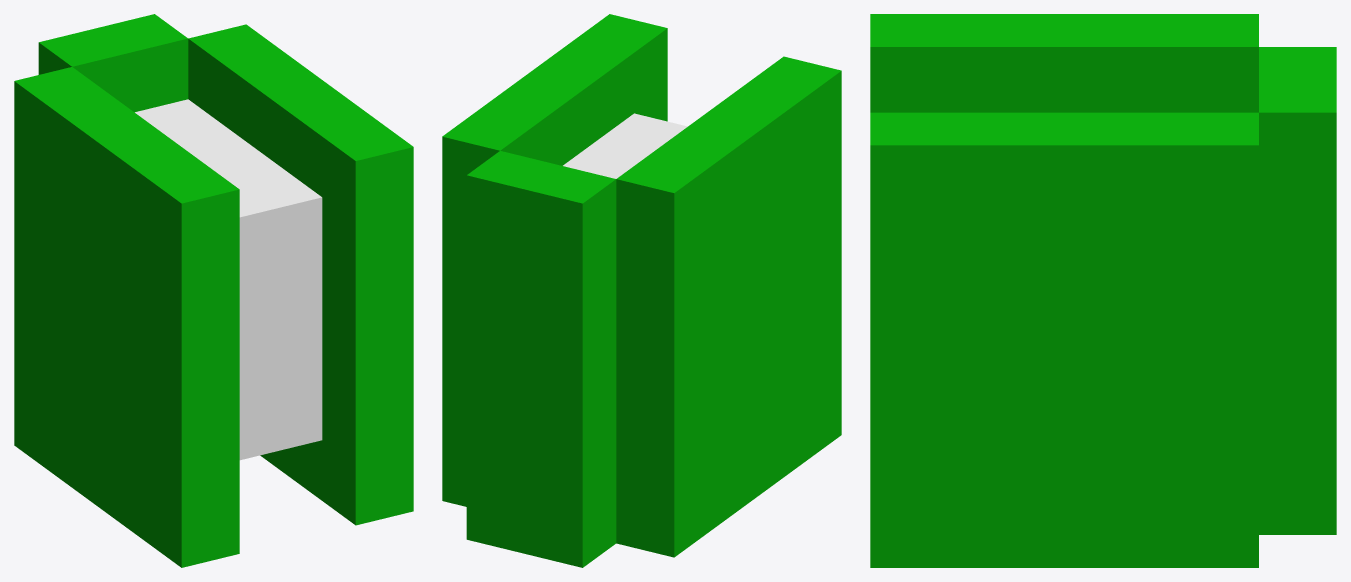
The model's file is Books.vox-3.obj.
3 renders of one model, left to right at view 1: azimuth 30°, elevation 25°; view 2: azimuth 150°, elevation 25°; view 3: azimuth 270°, elevation 25°, orthographic. The views are drawn at different scales.
Size of the model in its own units: 0.4 by 0.6 by 0.6.
Materials: 1 (1 with a texture image).
